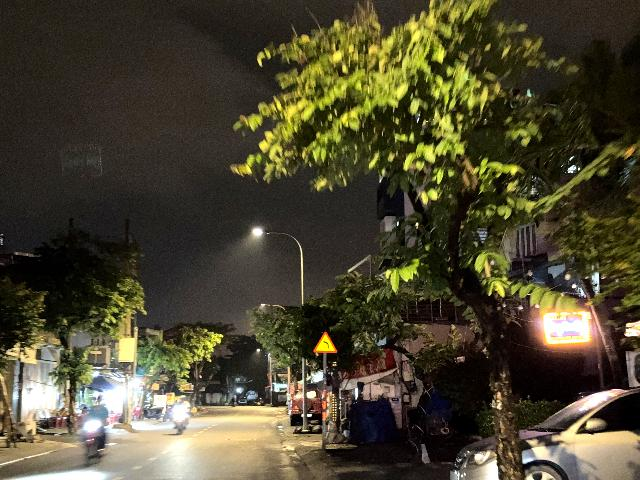cho-ngoat-nguy-hiem-ben-trai: (313, 331, 338, 353)
